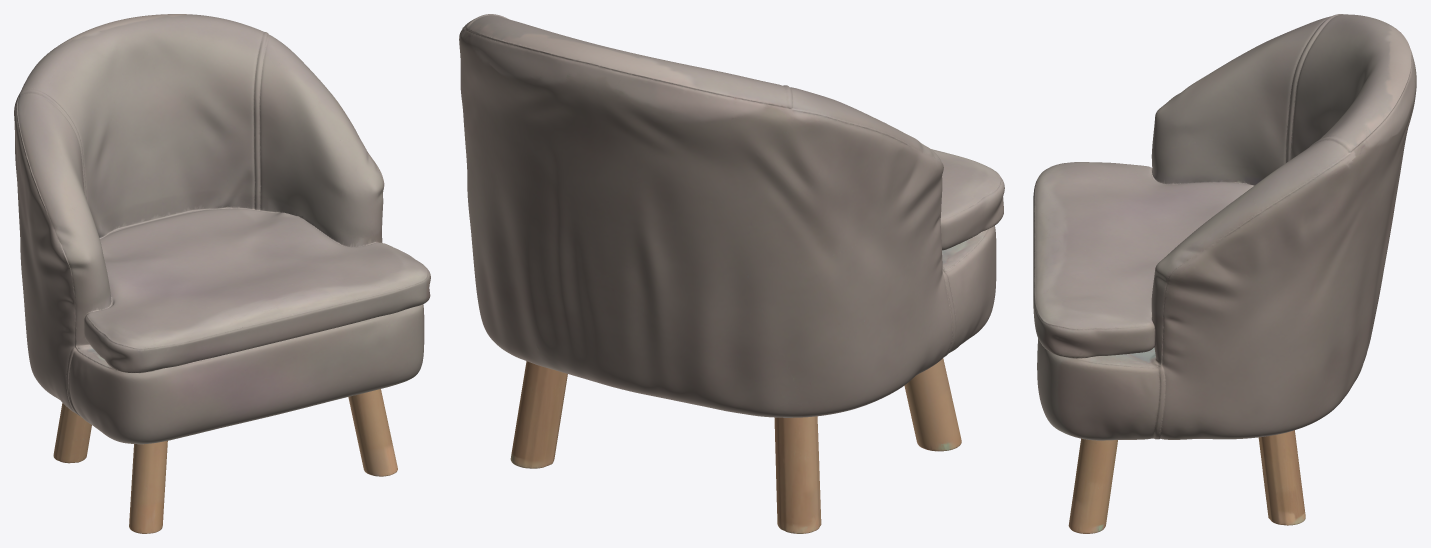
3 views of the same model, side by side, from view 1: azimuth 30°, elevation 25°; view 2: azimuth 150°, elevation 25°; view 3: azimuth 270°, elevation 25° (orthographic). The views are drawn at different scales.
Parts seen in each view (by area): view 1: Mesh_0; view 2: Mesh_0; view 3: Mesh_0.
Part boxes in pixels (x1,y1,x2,y2): Mesh_0: [14, 14, 430, 533]; Mesh_0: [459, 14, 1004, 533]; Mesh_0: [1033, 14, 1416, 533].
Size of the model in its own units: 0.6063 by 0.66 by 0.5604.
Materials: 1 (1 with a texture image).
